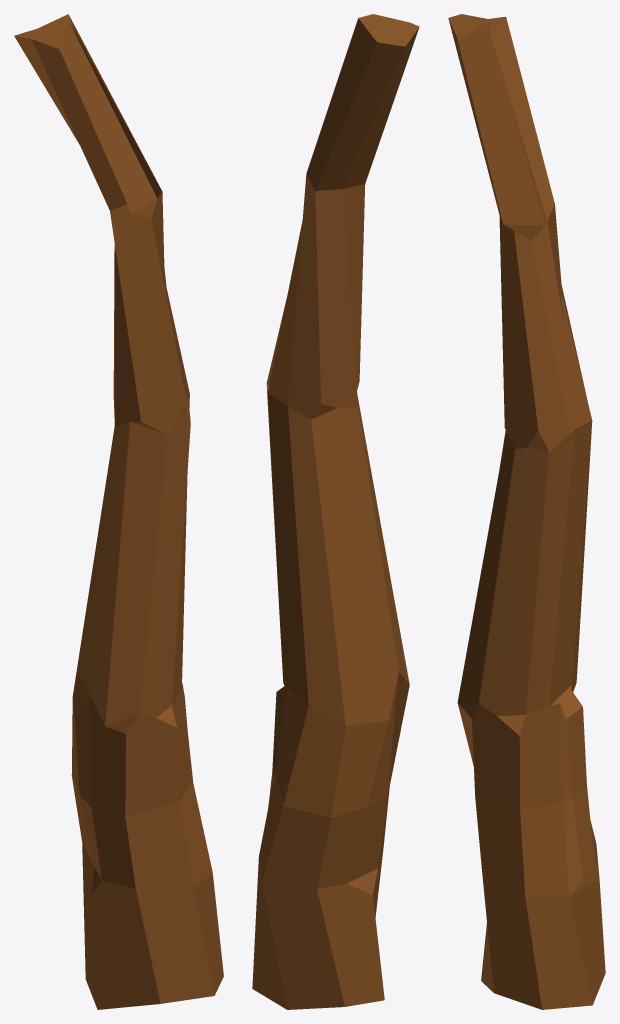
The model's file is TreeFall.fbx.
The picture shows the model from 3 angles, left to right: view 1: azimuth 30°, elevation 25°; view 2: azimuth 150°, elevation 25°; view 3: azimuth 330°, elevation 25°; orthographic projection. The views are drawn at different scales.
Visible parts, largest first — view 1: Cylinder.001, Cylinder; view 2: Cylinder.001, Cylinder; view 3: Cylinder.001, Cylinder.
Part boxes in pixels (x1,y1,x2,y2): Cylinder.001: [14, 14, 192, 816]; Cylinder: [71, 775, 223, 1009]; Cylinder.001: [266, 14, 419, 816]; Cylinder: [252, 773, 389, 1009]; Cylinder.001: [448, 14, 592, 808]; Cylinder: [475, 786, 605, 1009].
Bounding box in the file's own units: 177 × 958 × 125.
